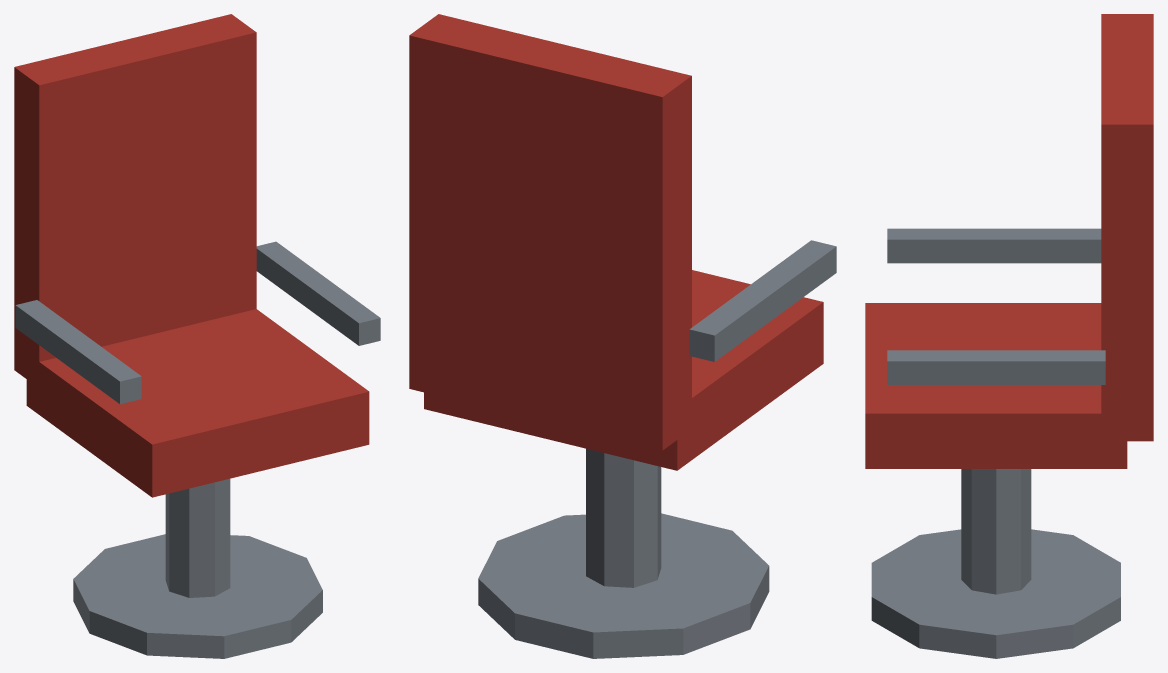
Rendered from barber_chair.glb.
3 renders of one model, left to right at view 1: azimuth 30°, elevation 25°; view 2: azimuth 150°, elevation 25°; view 3: azimuth 270°, elevation 25°, orthographic. The views are drawn at different scales.
Visible parts, largest first — view 1: barber_chair_Body; view 2: barber_chair_Body; view 3: barber_chair_Body.
Boxes of the visible parts, x1=… form: barber_chair_Body: x1=14, y1=14, x2=380, y2=658; barber_chair_Body: x1=409, y1=14, x2=836, y2=658; barber_chair_Body: x1=865, y1=14, x2=1153, y2=658.
Bounding box in the file's own units: 0.72 × 1.35 × 0.66.
